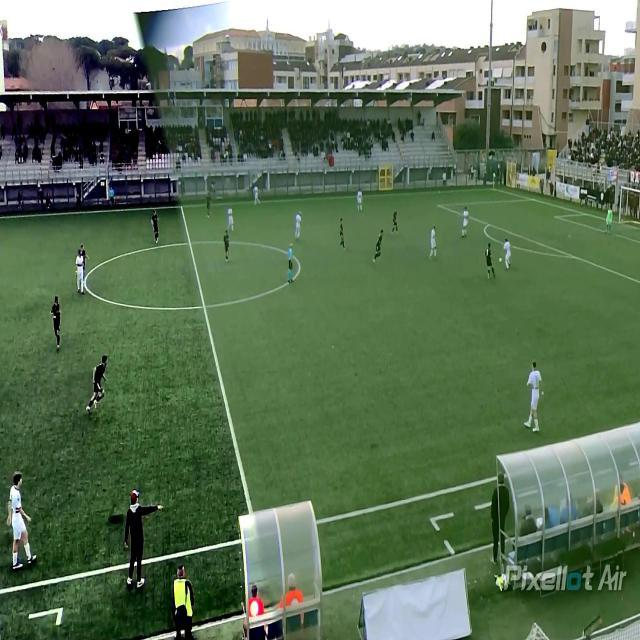arbitro: (287, 241, 295, 285)
football: (498, 257, 500, 261)
goleiro: (605, 207, 613, 234)
jogador: (6, 470, 35, 572), (85, 353, 110, 416), (525, 359, 545, 433), (50, 298, 61, 351), (75, 246, 87, 293), (485, 243, 495, 279), (373, 230, 383, 262), (502, 239, 512, 270), (459, 207, 469, 238), (151, 211, 159, 243), (430, 227, 437, 256), (223, 231, 230, 260), (294, 212, 301, 238), (227, 208, 234, 233), (339, 218, 345, 247), (253, 185, 261, 205), (356, 189, 363, 211), (392, 210, 398, 232), (206, 194, 212, 212)
